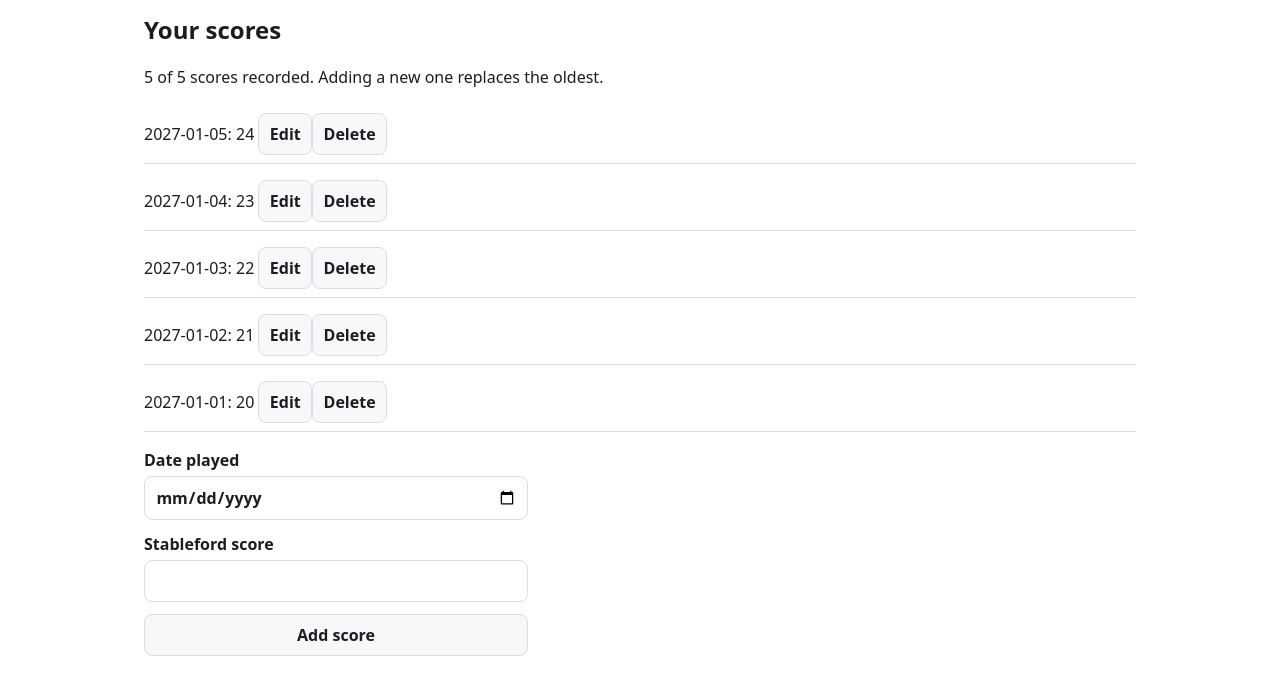
Test: Dashboard — score entry, edit and delete (PRD §05 DSH-02) › the server’s replace-oldest outcome is shown after a sixth score
(page scrolled)
Expected: the list item "2027-01-05: 24" is shown, x1=144 y1=105 x2=1136 y2=164
Type "2027-01-06" into the date field labelled "Date played" at (336, 498), box x1=144 y1=476 x2=528 y2=520
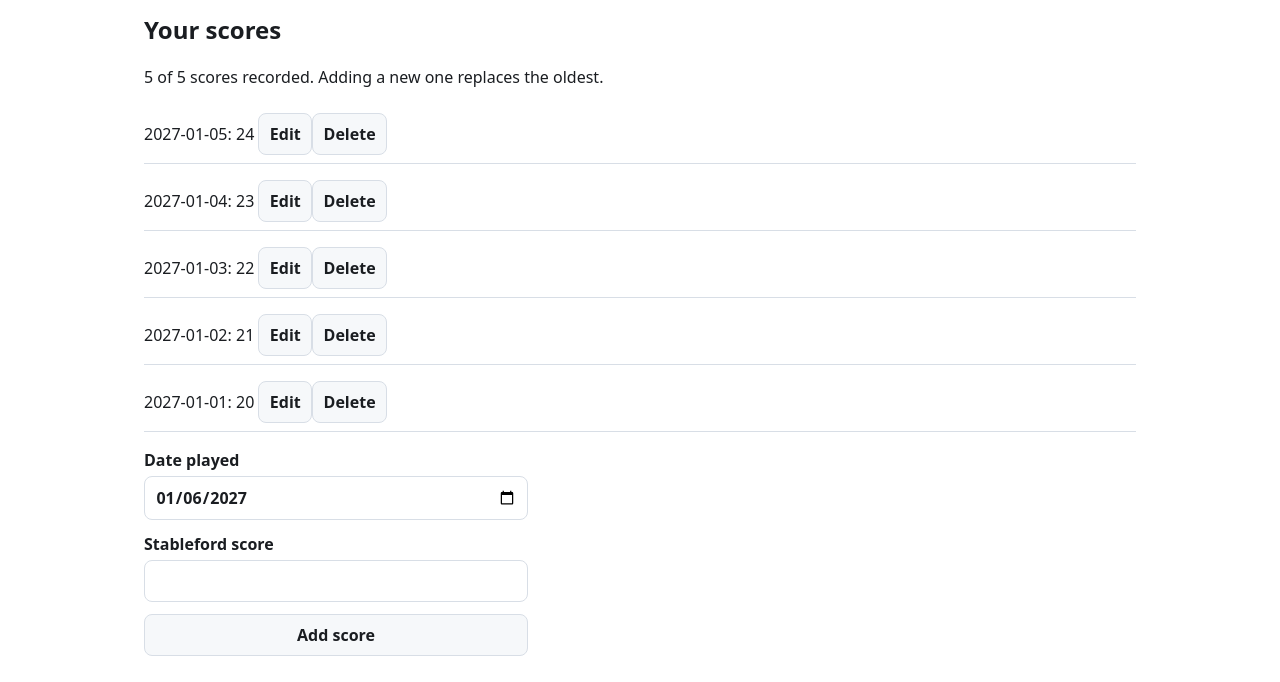
Type "25" into the number field labelled "Stableford score" at (336, 581), box x1=144 y1=560 x2=528 y2=602
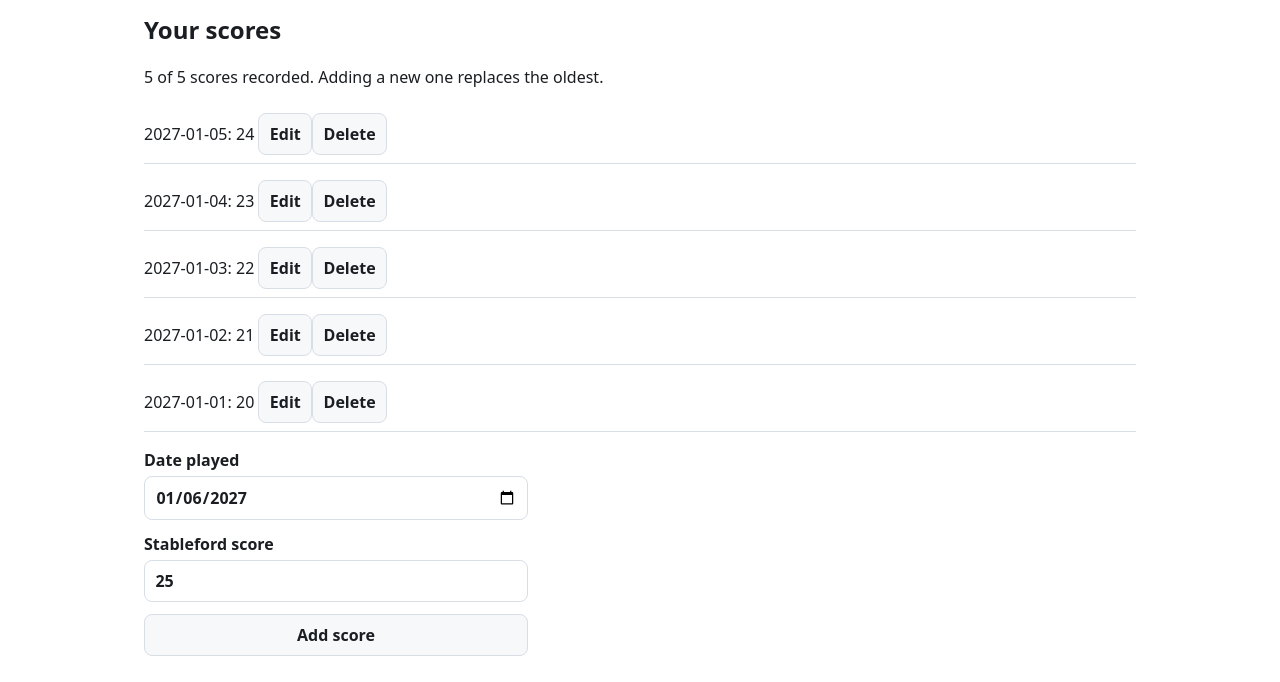
Click the button "Add score" at (336, 635), box x1=144 y1=614 x2=528 y2=656
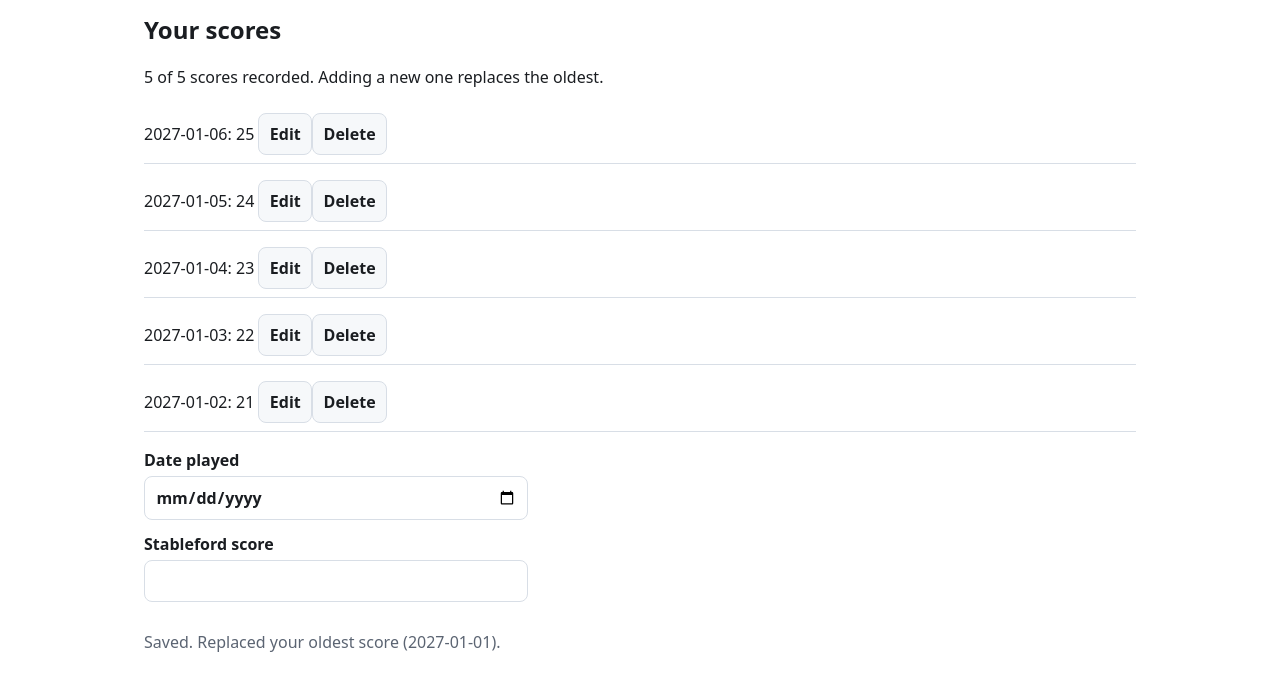
Result: the text "Saved. Replaced your oldest score (2027-01-01)." is shown at x1=144 y1=630 x2=528 y2=654
Result: the list item "2027-01-01: 20" is gone
Result: the list item "2027-01-06: 25" is shown at x1=144 y1=105 x2=1136 y2=164
